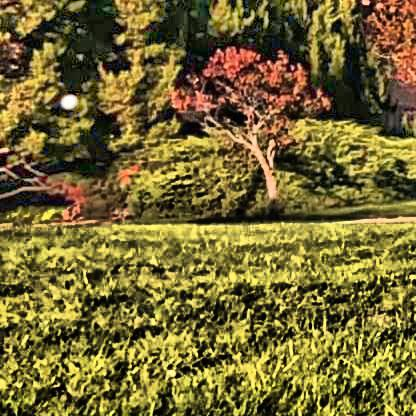golfball: (57, 91, 76, 106)
